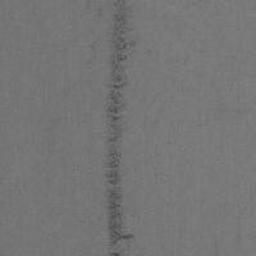Inclusion: (102, 0, 134, 256)
